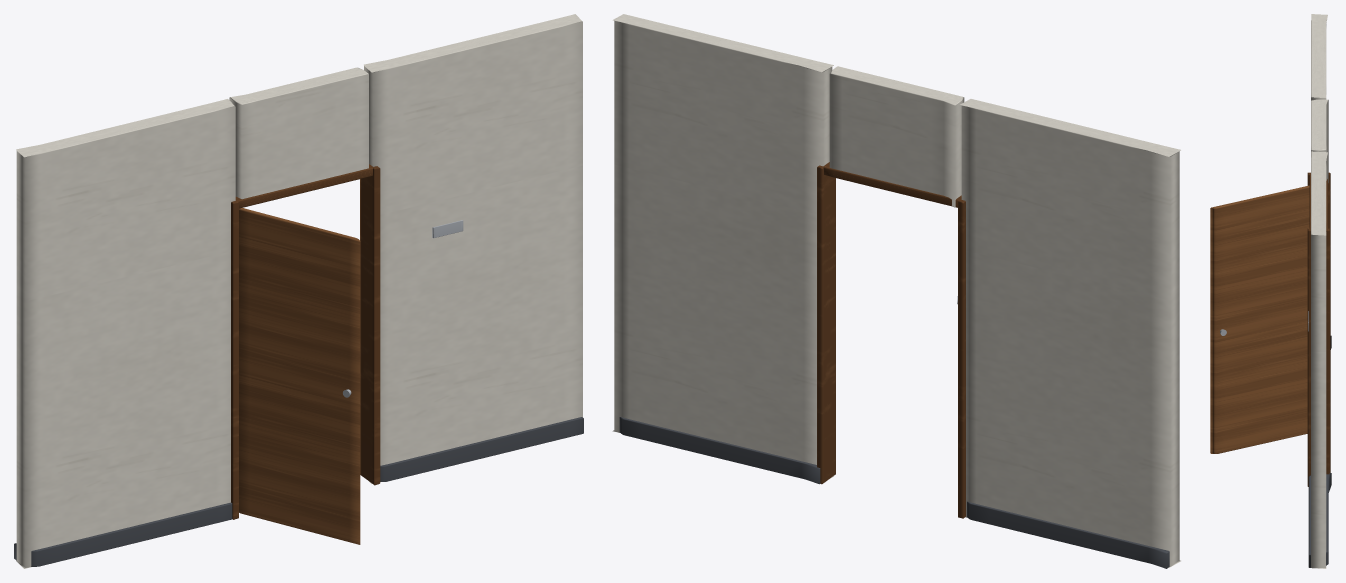
File: doorway.glb
3 views of the same model, side by side, from view 1: azimuth 30°, elevation 25°; view 2: azimuth 150°, elevation 25°; view 3: azimuth 270°, elevation 25° (orthographic). The views are drawn at different scales.
Visible parts, largest first — view 1: Doorway, Door_Leaf; view 2: Doorway; view 3: Door_Leaf, Doorway.
Part boxes in pixels (left/top/right/bottom): Doorway: left=14, top=14, right=583, bottom=568; Door_Leaf: left=239, top=208, right=360, bottom=544; Doorway: left=612, top=14, right=1180, bottom=568; Door_Leaf: left=1210, top=185, right=1309, bottom=453; Doorway: left=1307, top=14, right=1331, bottom=568.
Bounding box in the file's own units: 3.99 × 2.8 × 0.9223.
5 materials, 3 textured.
